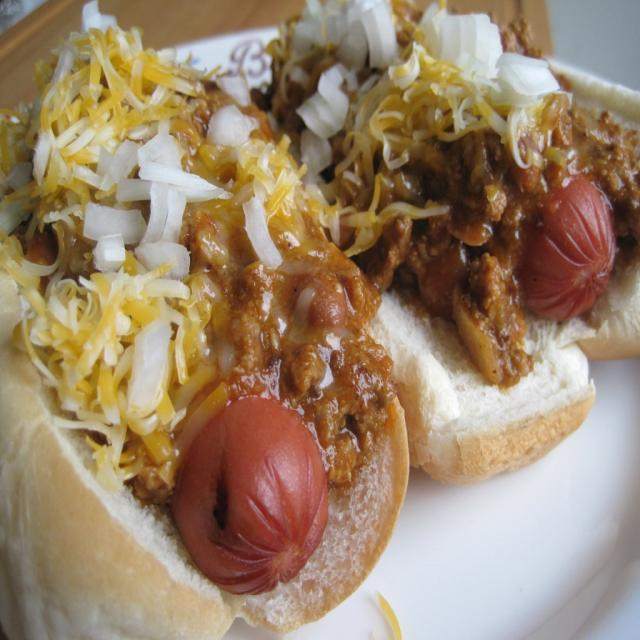Hot dog: (0, 11, 376, 639), (216, 0, 639, 482), (282, 0, 640, 475)
